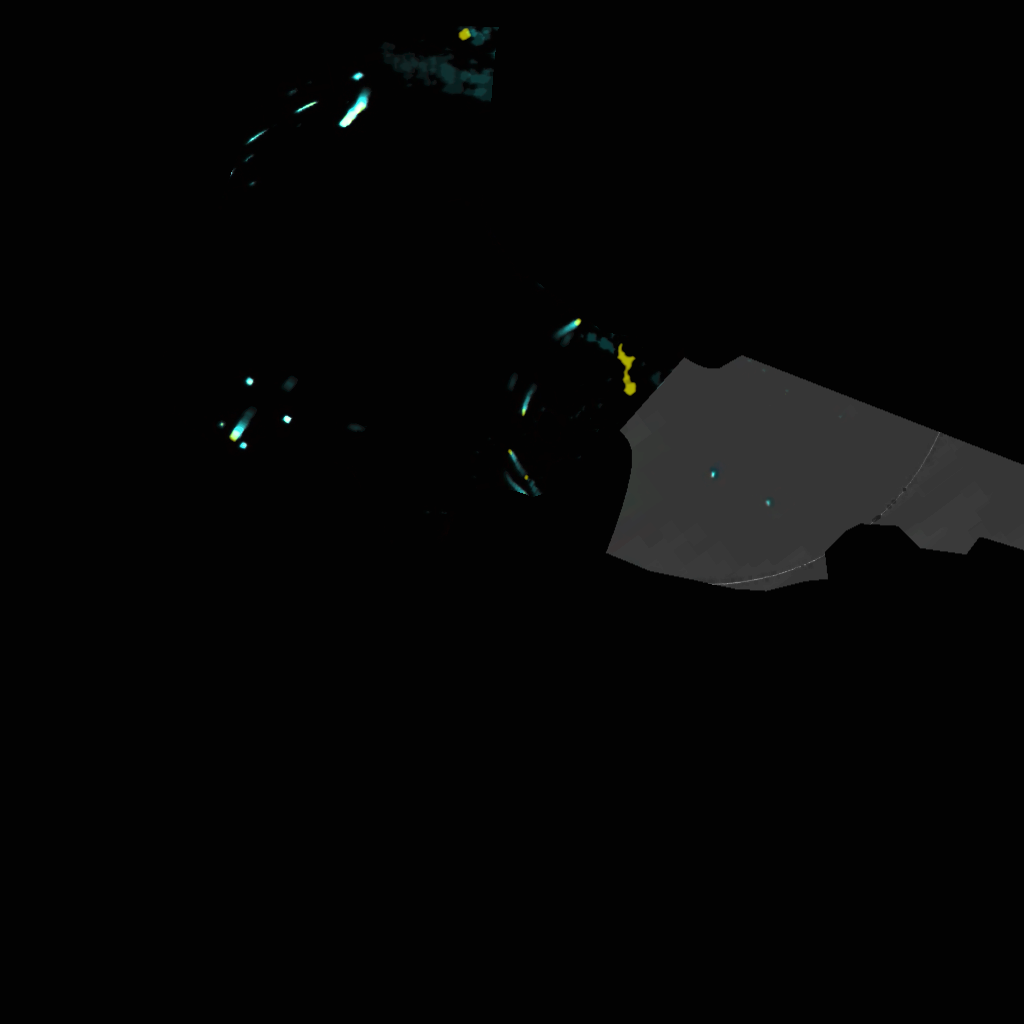B: (230, 418, 254, 441), (501, 475, 526, 496), (516, 392, 532, 419), (337, 110, 356, 132), (356, 95, 374, 115), (567, 313, 582, 335), (507, 443, 520, 467)
